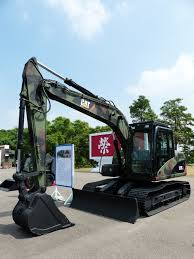excavator: (13, 54, 192, 235)
